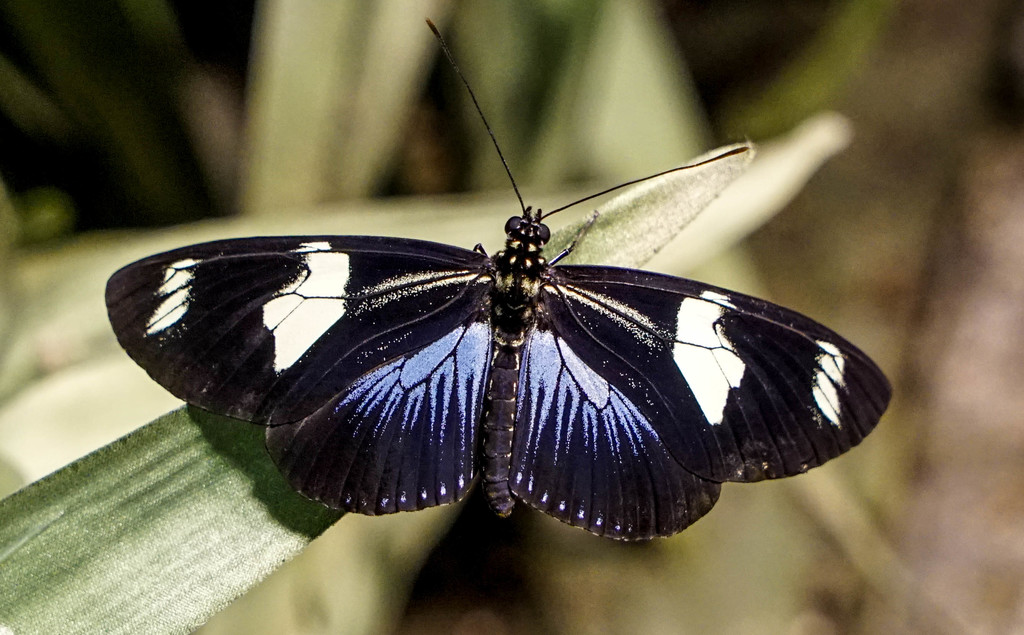Butterfly: (93, 210, 915, 545)
